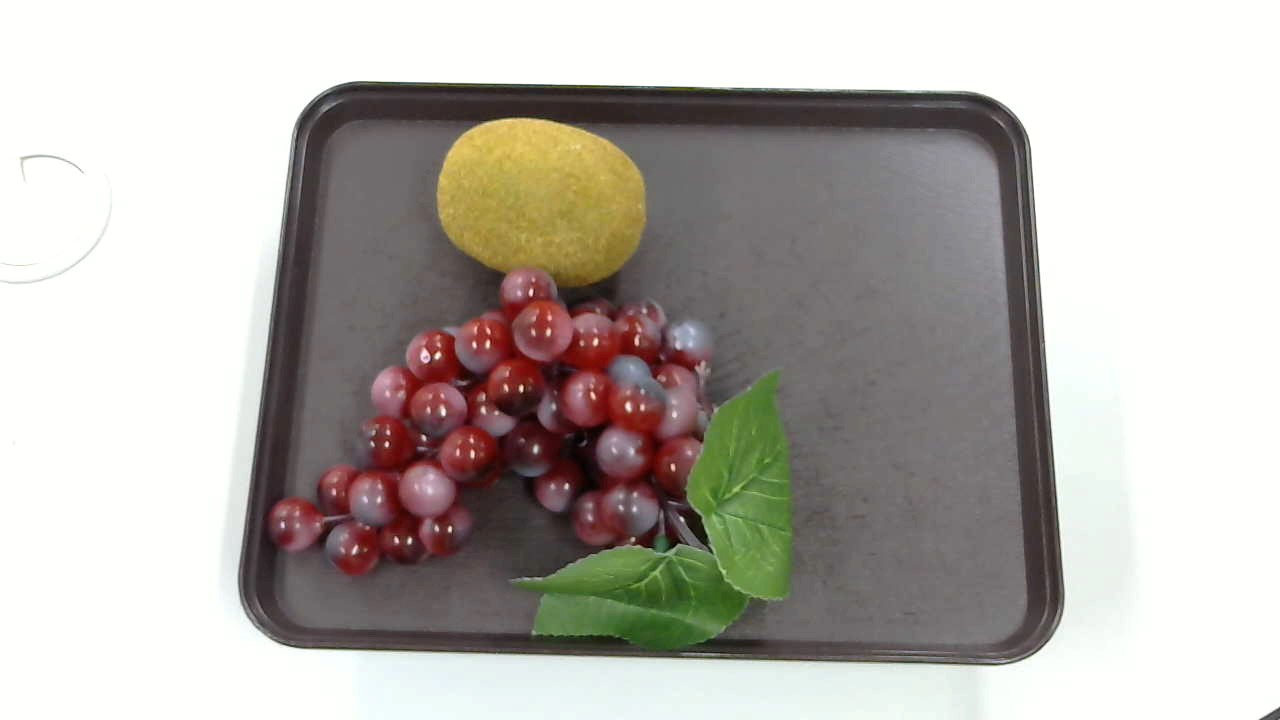grape: (264, 271, 815, 674)
kiwi fruit: (434, 119, 647, 291)
